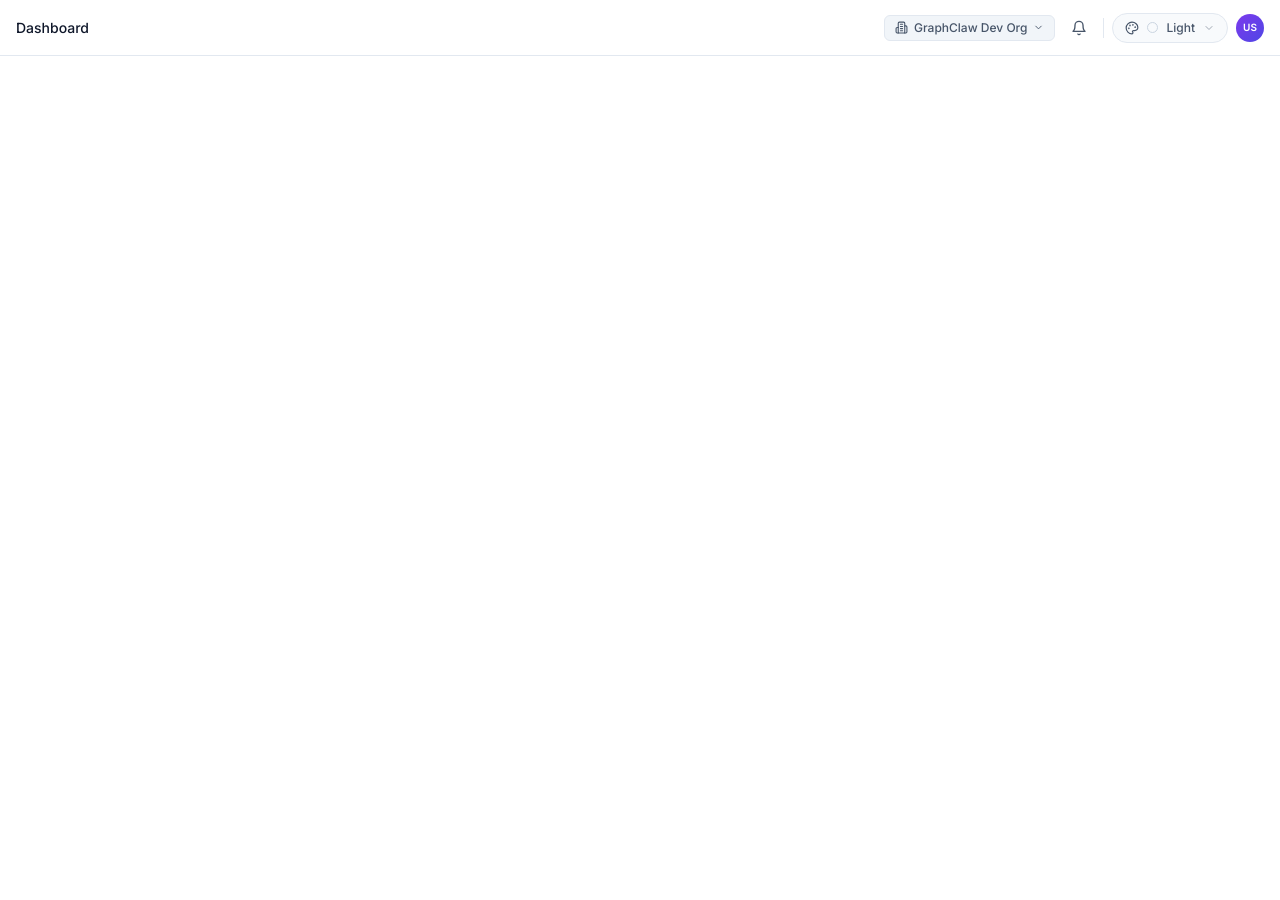
Test: Topbar › opens notification panel on bell click
Click the button with test id "notification-bell".
click(1080, 28)  # box [1064,12,1096,44]
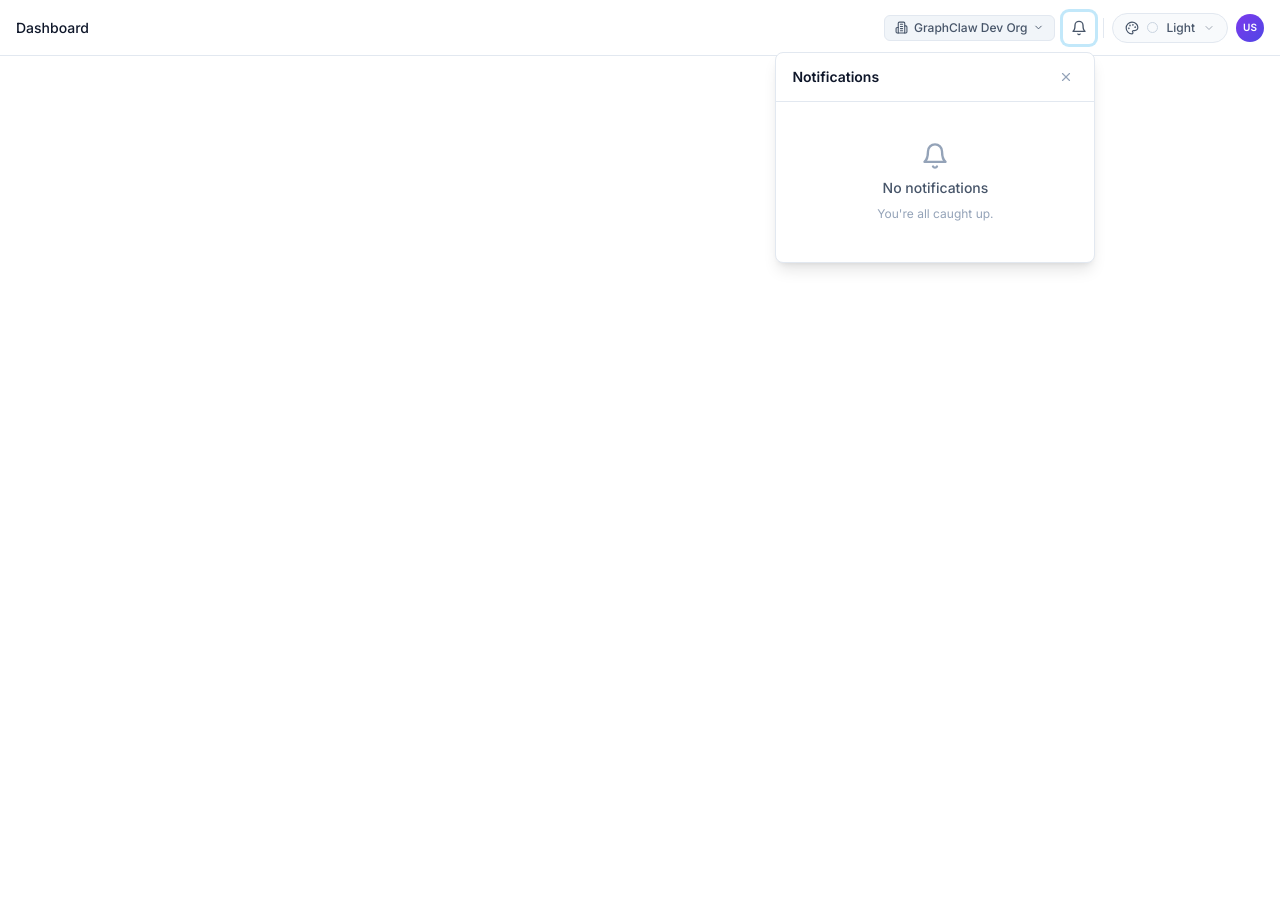
Expected: the dialog with test id "notification-panel" is shown, [776,52,1096,262]
